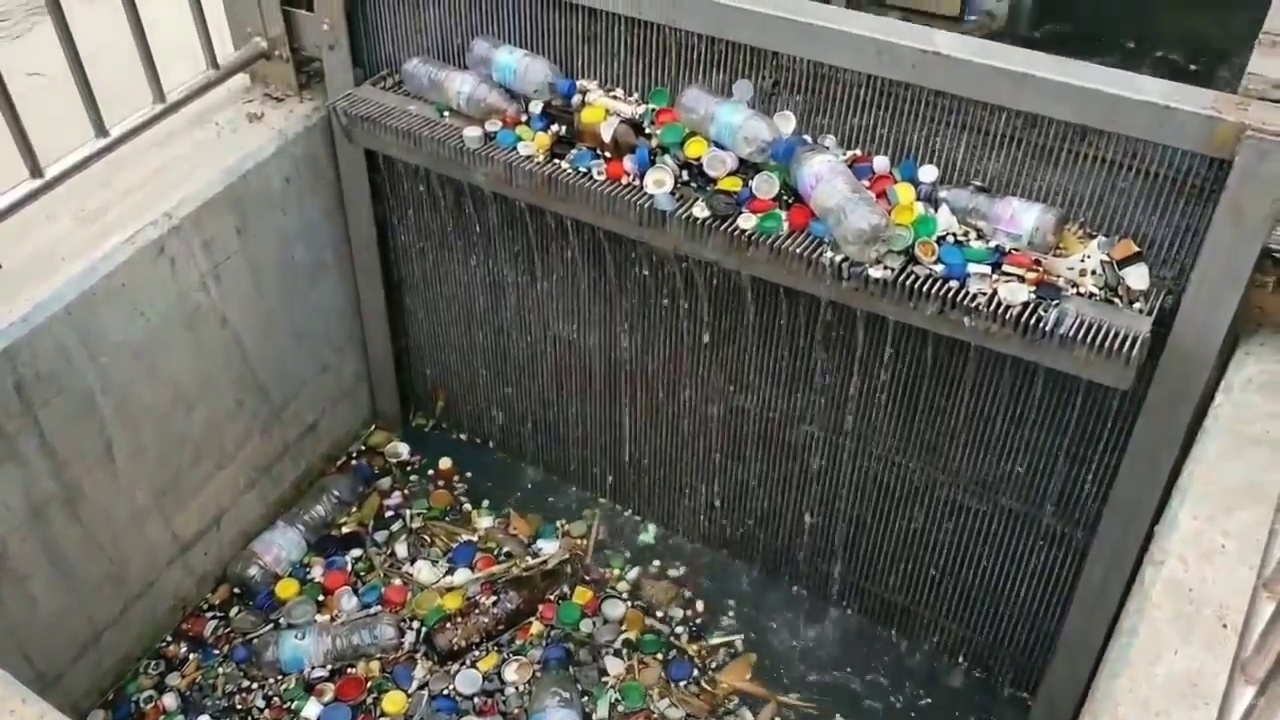debris: (90, 421, 845, 718), (405, 34, 1166, 321)
